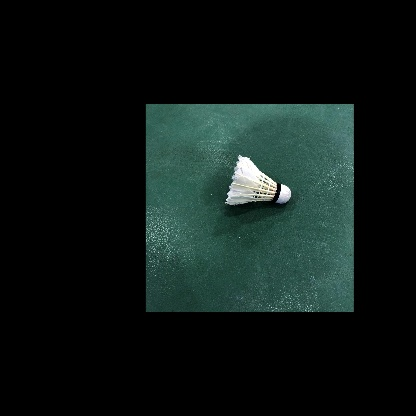ball_single: (225, 154, 291, 205)
